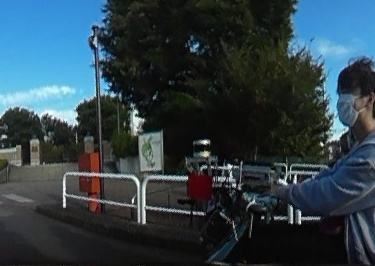person: (318, 60, 375, 266)
